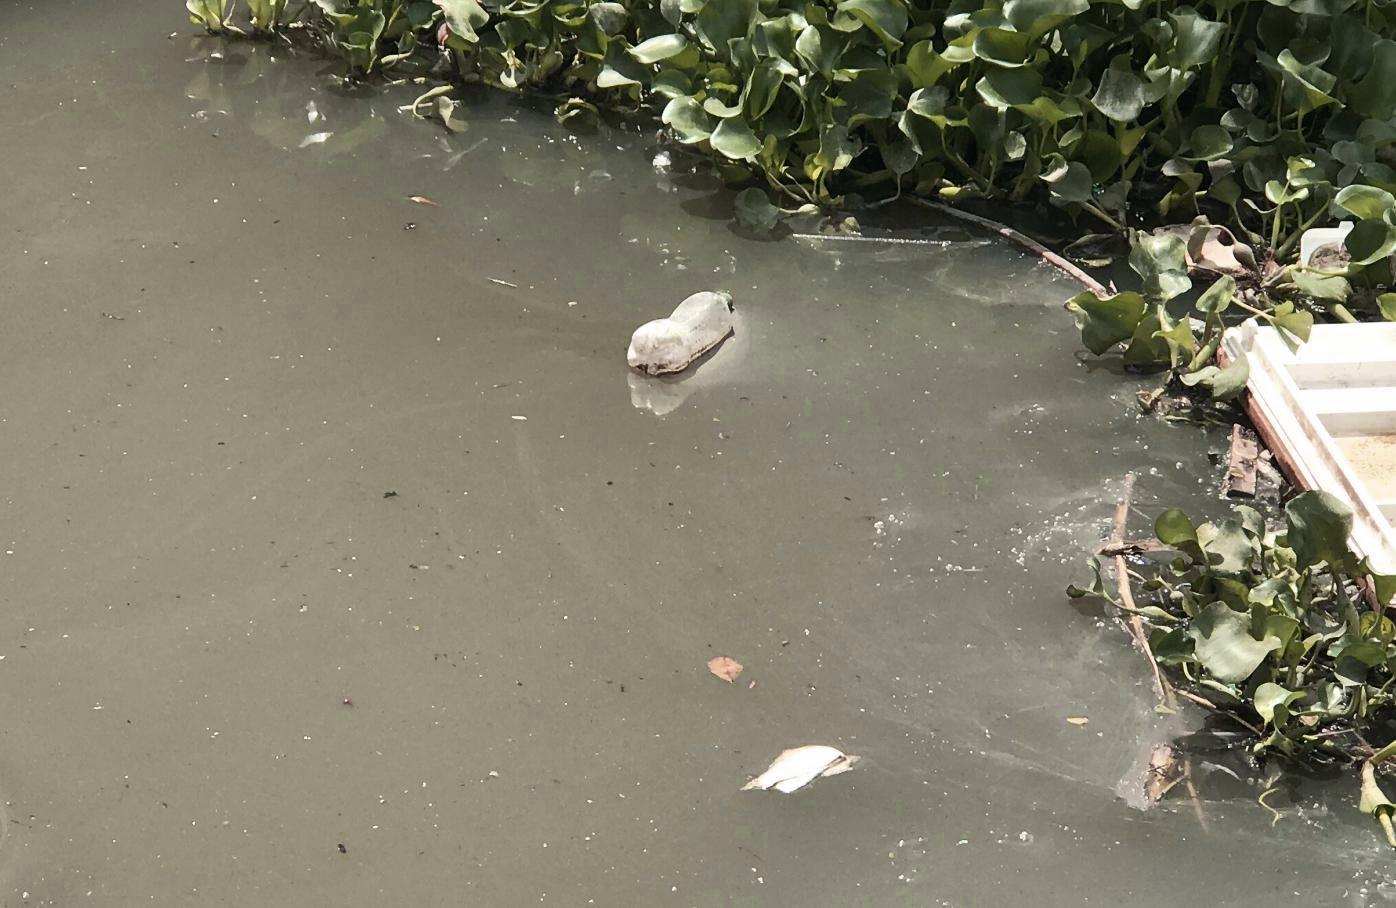Plastic: (625, 288, 744, 382)
Trash: (741, 744, 869, 793)
